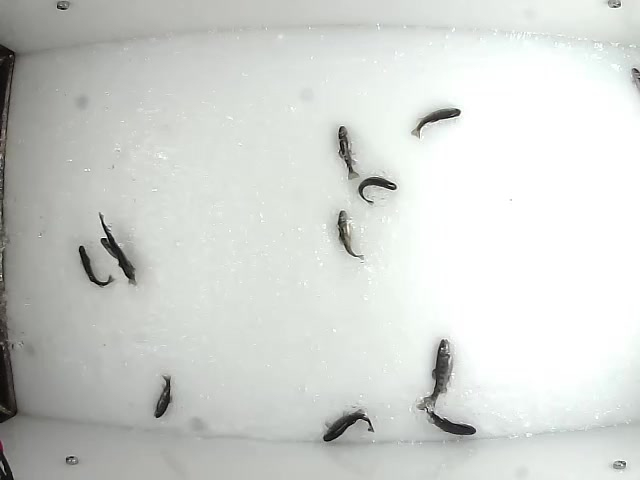fish: (418, 336, 453, 415), (96, 208, 136, 273), (418, 398, 478, 437), (321, 407, 378, 443), (101, 236, 138, 289), (410, 106, 463, 140), (78, 244, 117, 289), (335, 210, 369, 261), (336, 123, 361, 180), (356, 175, 398, 205), (153, 375, 174, 420)
